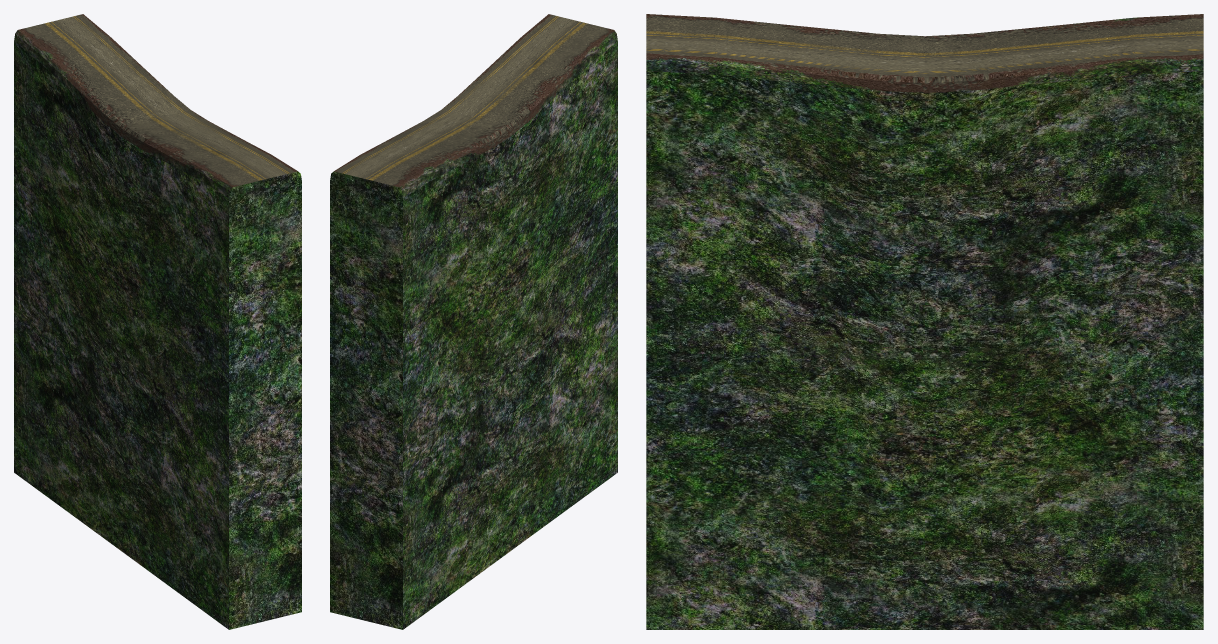
Rendered from Thin Bend Down.fbx.
3 views of the same model, side by side, from view 1: azimuth 30°, elevation 25°; view 2: azimuth 150°, elevation 25°; view 3: azimuth 270°, elevation 25° (orthographic). The views are drawn at different scales.
Parts seen in each view (by area): view 1: Thin Bend down; view 2: Thin Bend down; view 3: Thin Bend down.
Part boxes in pixels (x1,y1,x2,y2): Thin Bend down: (14, 14, 301, 629); Thin Bend down: (330, 14, 617, 629); Thin Bend down: (646, 14, 1203, 629).
Bounding box in the file's own units: 34.15 × 198 × 175.
